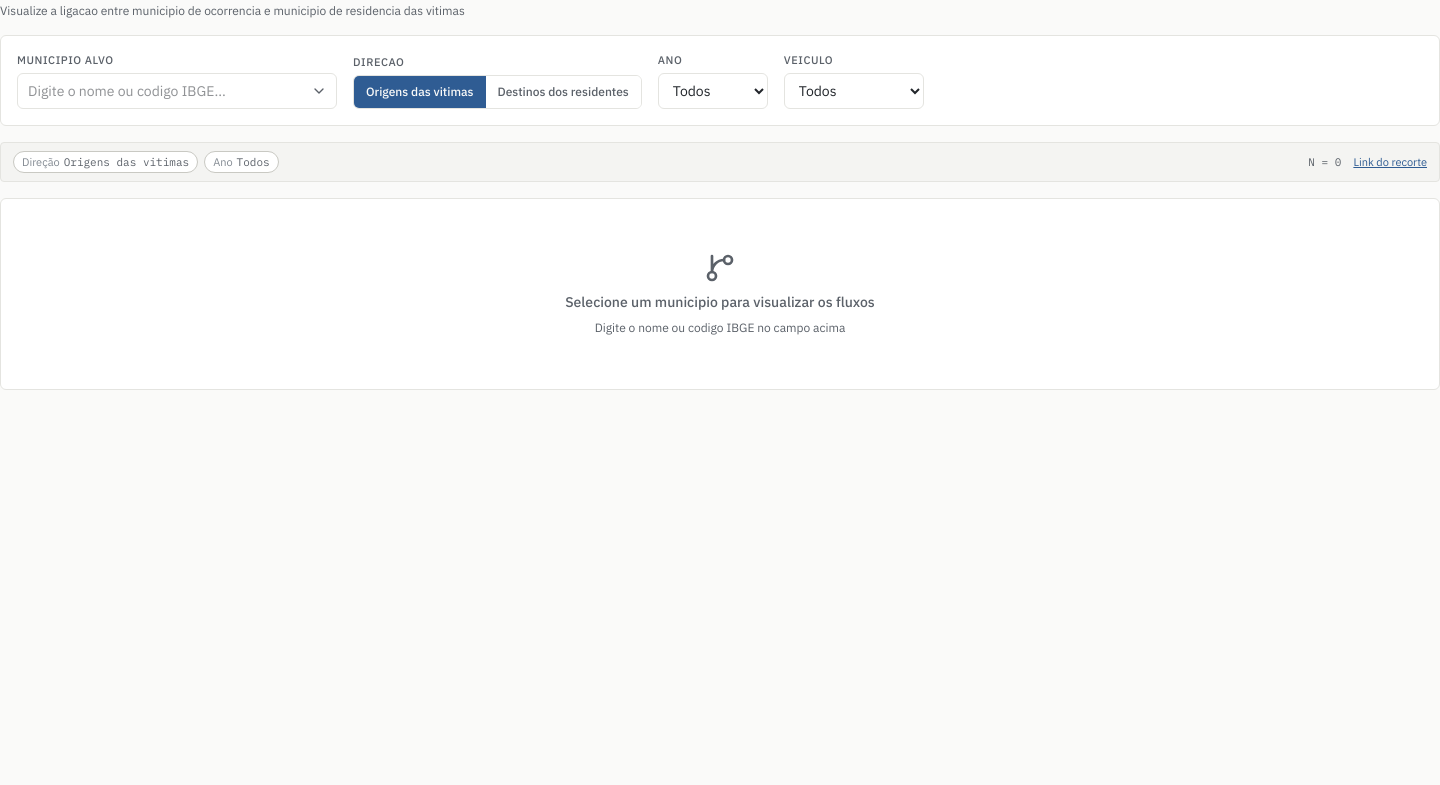
Test: FluxosPage › exibe tabela de arestas com municipios corretos
Type "Vitória" into the dropdown with placeholder "Digite o nome ou codigo IBGE..." at (177, 90), box [17,72,337,108]
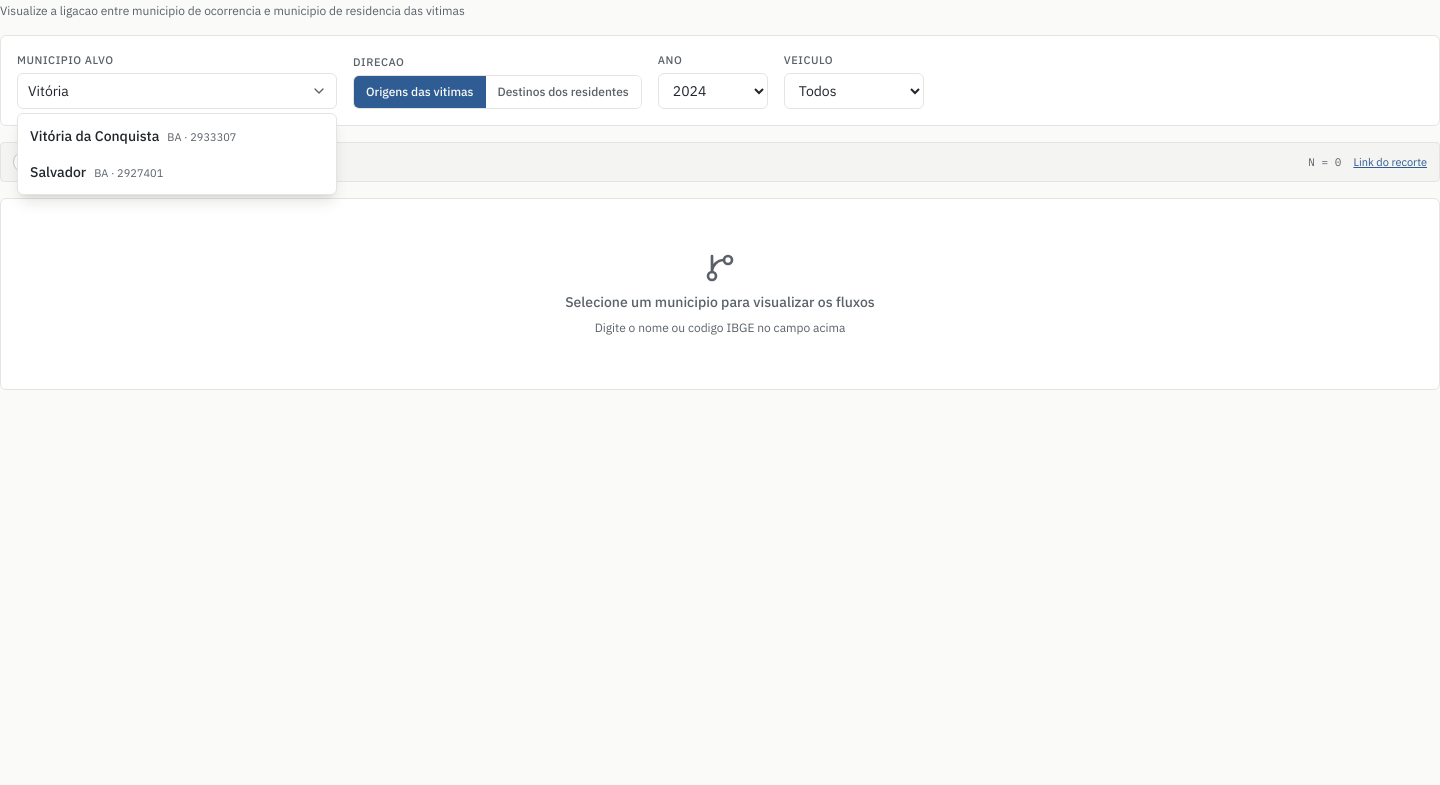
Check: the text "Vitória da Conquista" is shown
Press the mouse on the text "Vitória da Conquista" at (95, 136), box [30,126,159,144]
(page scrolled)
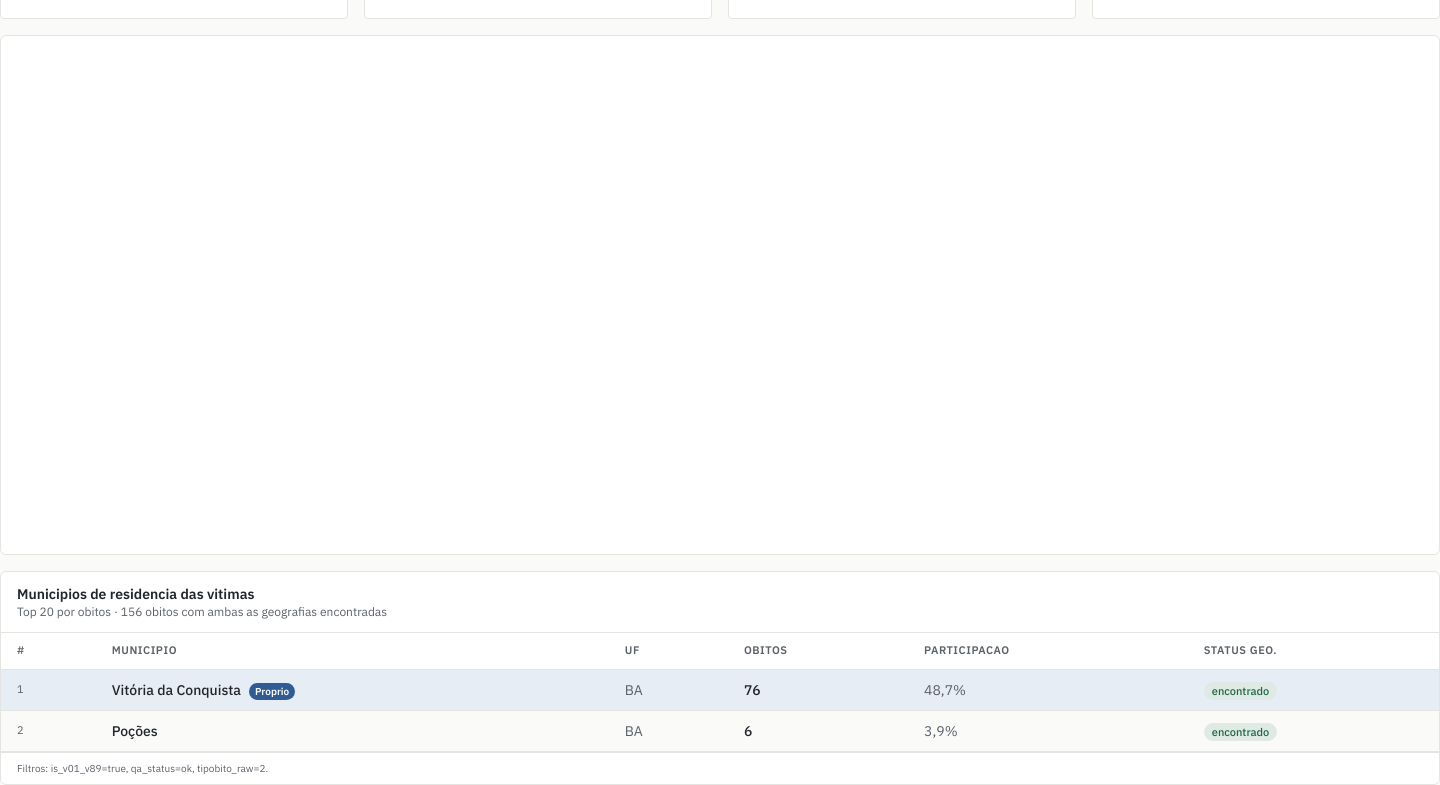
Check: the heading "Municipios de residencia das vitimas" is shown, box [17,585,254,603]
Check: the text "Proprio" is shown, box [249,683,295,700]
Check: the text "Poções" is shown, box [96,710,609,751]
